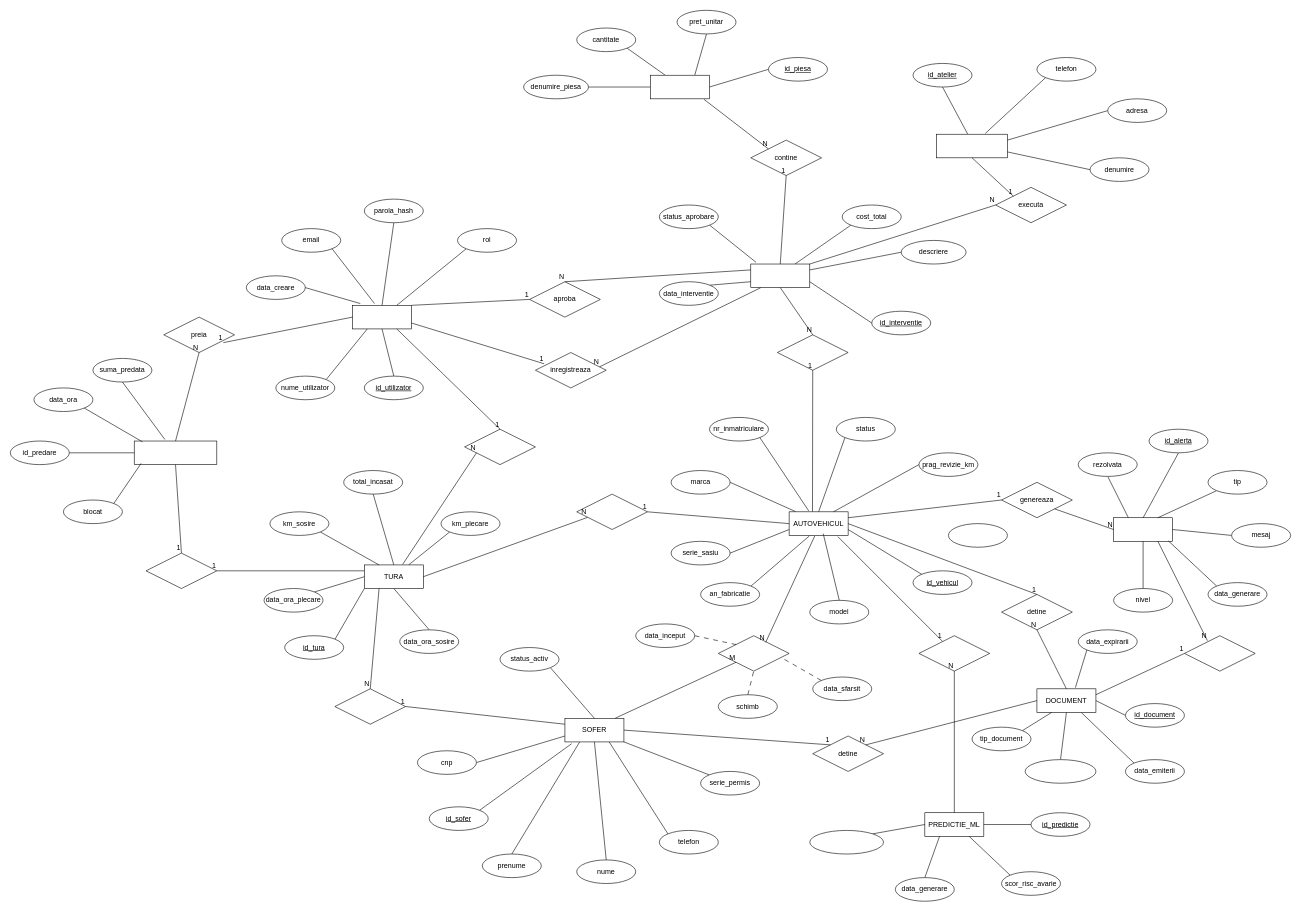
Some shapes in this 1301 by 912 pixel diagram are drawn without their labels. The shapes that lost their labels are listed below. From the top down, each one's box as (x1, y1, x2, y2) in pixels, then its label:
(650, 75, 709, 99): PIESA
(936, 134, 1007, 158): ATELIER_SERVICE
(750, 263, 810, 288): INTERVENTIE
(352, 305, 412, 329): UTILIZATOR
(777, 334, 848, 370): sufera
(134, 440, 217, 465): PREDARE_INCASARI
(464, 429, 535, 465): valideaza
(576, 494, 648, 530): ruleaza_in
(1113, 517, 1173, 541): ALERTA
(948, 523, 1007, 547): km_curenti
(145, 553, 217, 589): se_inchide_cu
(718, 635, 789, 671): este_atribuit
(918, 635, 990, 671): are_predictii
(1184, 635, 1255, 671): declanseaza
(334, 688, 406, 724): efectueaza
(1025, 759, 1096, 783): numar_document
(809, 830, 884, 854): estimare_cost_viitor
